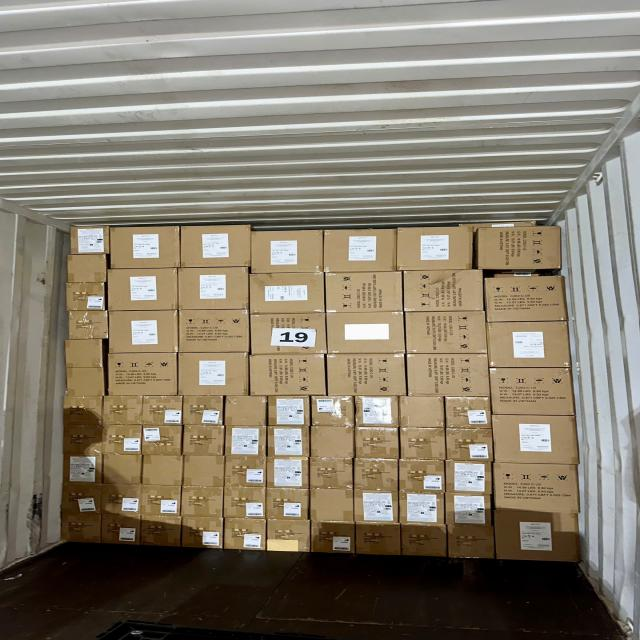Carton: (494, 514, 579, 566), (491, 414, 579, 464), (491, 463, 579, 513), (481, 225, 565, 275), (489, 366, 575, 414), (484, 273, 566, 321), (486, 323, 571, 369), (406, 353, 490, 396), (399, 229, 477, 274), (405, 313, 487, 354), (404, 270, 484, 312), (328, 353, 405, 396), (326, 314, 406, 355), (326, 272, 404, 314), (251, 314, 328, 356), (249, 353, 325, 395), (109, 313, 181, 357), (176, 267, 248, 311), (182, 222, 252, 267), (252, 232, 325, 275), (109, 352, 180, 396), (177, 352, 248, 396), (252, 273, 326, 315), (325, 232, 399, 274), (400, 460, 447, 526), (178, 312, 248, 356), (112, 224, 182, 268), (444, 461, 490, 527), (109, 269, 180, 311), (353, 465, 398, 524), (449, 526, 497, 562), (444, 426, 491, 462), (401, 528, 448, 562), (444, 461, 491, 495), (400, 427, 448, 460), (354, 526, 400, 560), (399, 395, 446, 428), (310, 521, 354, 556), (60, 480, 104, 515), (355, 426, 401, 459), (313, 488, 357, 522), (266, 520, 311, 553), (182, 517, 225, 551), (59, 512, 104, 544), (184, 457, 226, 491), (62, 422, 104, 456), (445, 398, 491, 429), (225, 425, 268, 458), (310, 395, 354, 427), (313, 426, 357, 458), (224, 395, 268, 427), (222, 521, 264, 554), (267, 395, 310, 427), (100, 484, 143, 516), (266, 488, 310, 519), (66, 253, 110, 284), (63, 338, 105, 370), (268, 425, 310, 457), (222, 487, 264, 519), (140, 518, 182, 550), (100, 514, 142, 546), (183, 397, 226, 428), (63, 367, 106, 398), (356, 397, 400, 427), (313, 460, 357, 490), (140, 486, 181, 518), (143, 454, 184, 486), (63, 395, 104, 427), (268, 456, 310, 487), (183, 487, 226, 517), (225, 456, 268, 486), (184, 425, 226, 455), (66, 280, 106, 311), (105, 456, 144, 487), (144, 396, 184, 426), (106, 424, 144, 455), (106, 398, 145, 428), (142, 425, 181, 455), (68, 224, 108, 253), (64, 456, 102, 486), (69, 312, 109, 340)
